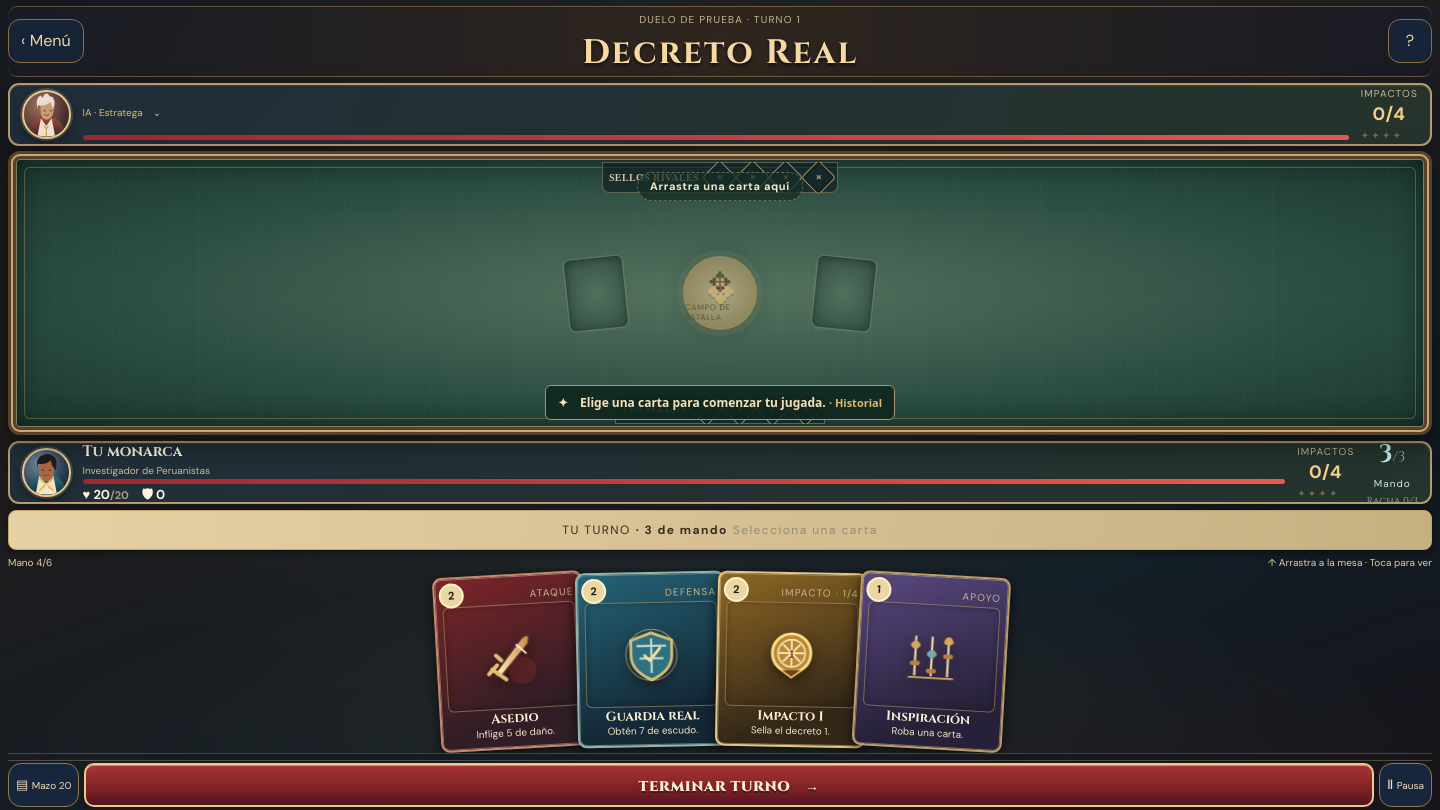
the original select-and-confirm interaction remains functional
Click the button with class "dr-card" that starts with "ATAQUE" at (511, 662), box [431,570,591,754]
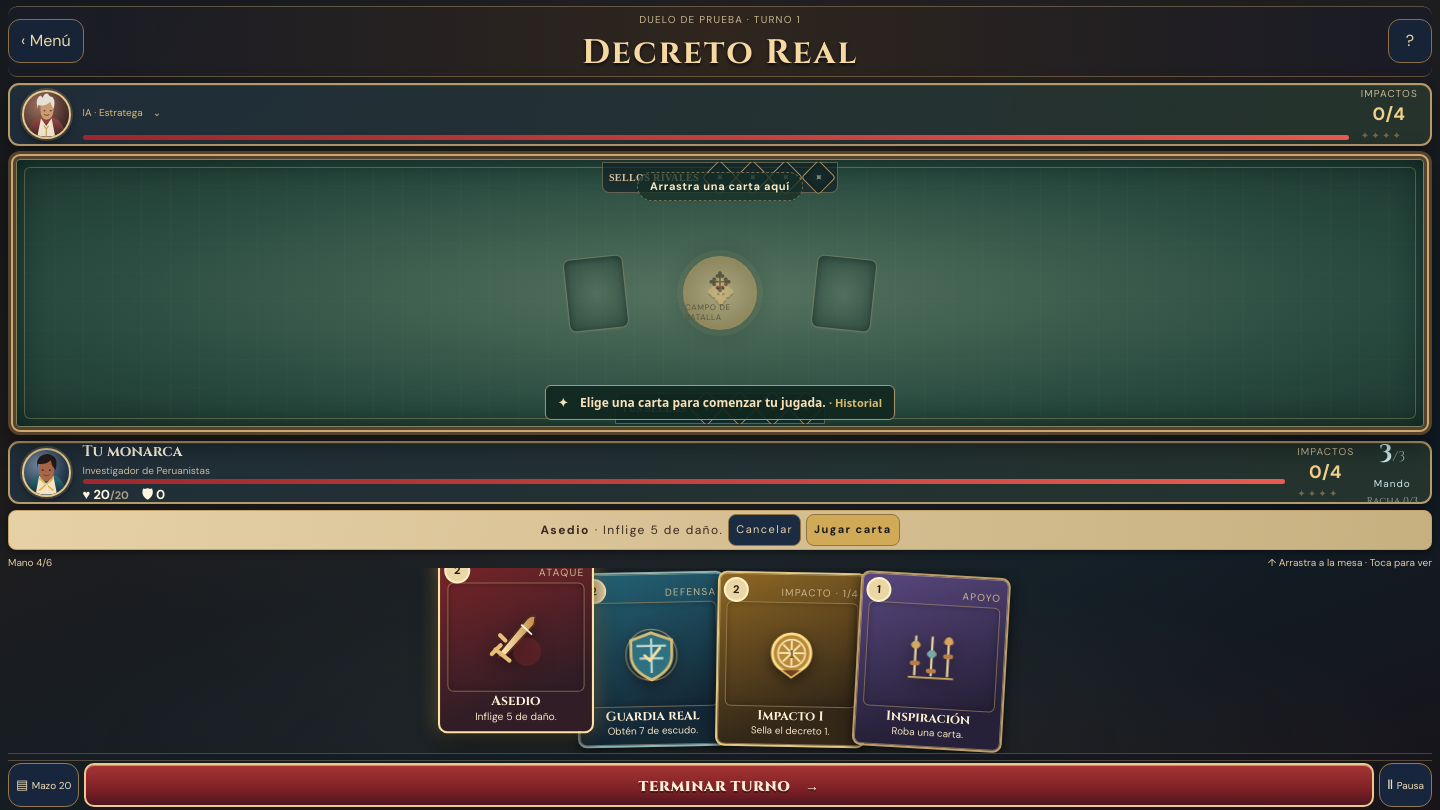
Expected: the button "Jugar carta" is shown
Click the button "Jugar carta" at (853, 530), box [806,514,900,546]
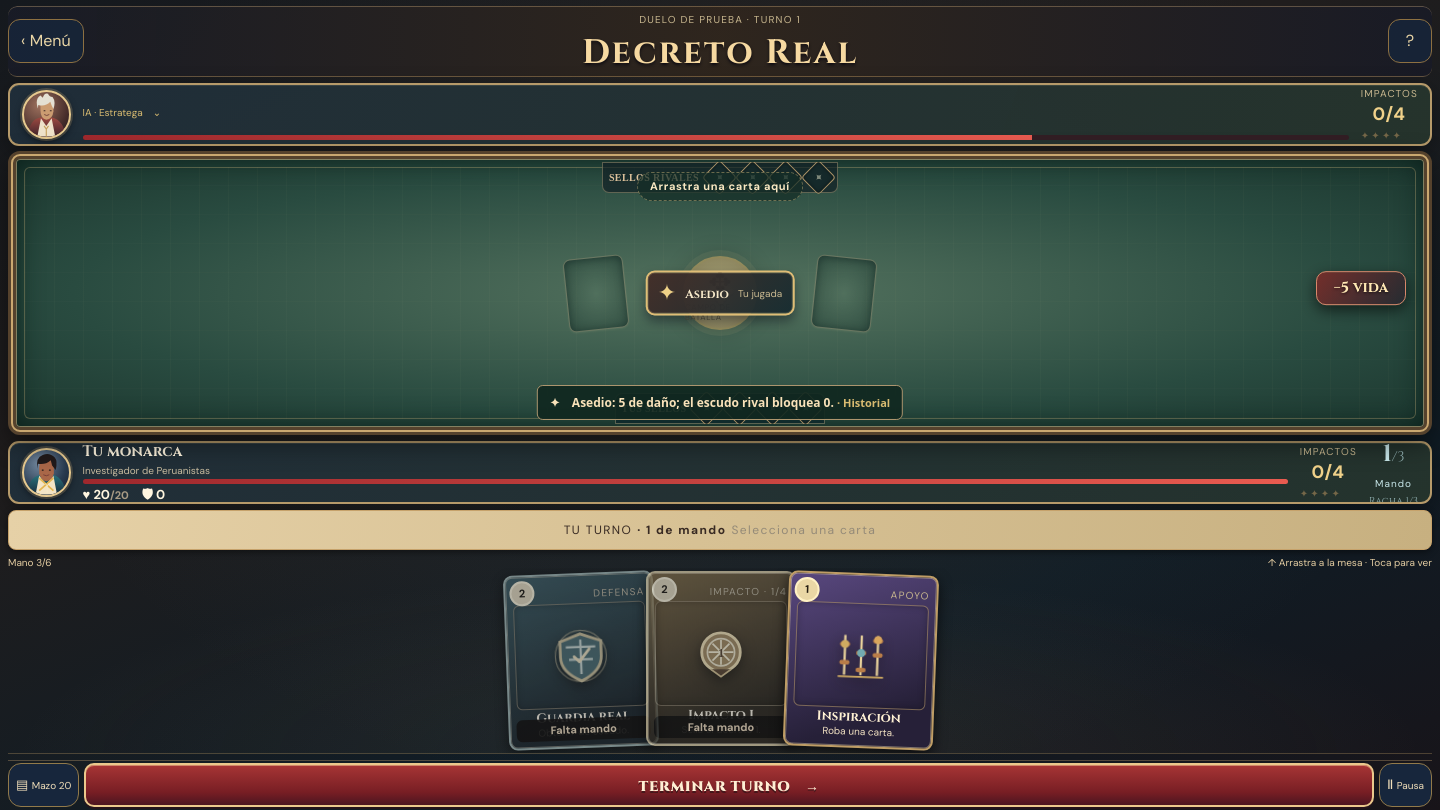
Expected: the number of buttons with class "dr-card" is 3, [503,570,659,751]; [646,571,796,746]; [783,570,939,751]
